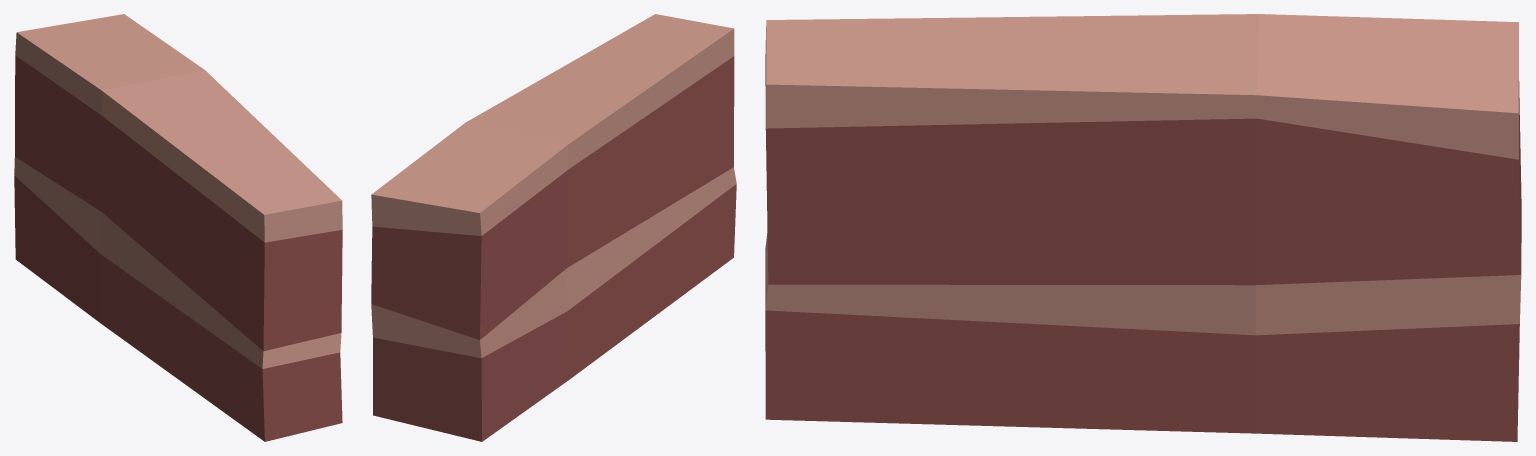
The model's file is porkBellyBits.fbx.
3 renders of one model, left to right at view 1: azimuth 30°, elevation 25°; view 2: azimuth 150°, elevation 25°; view 3: azimuth 270°, elevation 25°, orthographic. The views are drawn at different scales.
Visible parts, largest first — view 1: porkBellyBits; view 2: porkBellyBits; view 3: porkBellyBits.
Part boxes in pixels (x1,y1,x2,y2): porkBellyBits: (14, 14, 342, 441); porkBellyBits: (371, 14, 736, 441); porkBellyBits: (765, 14, 1521, 441).
Bounding box in the file's own units: 6.36 × 12.59 × 24.74.
1 material, 1 textured.
